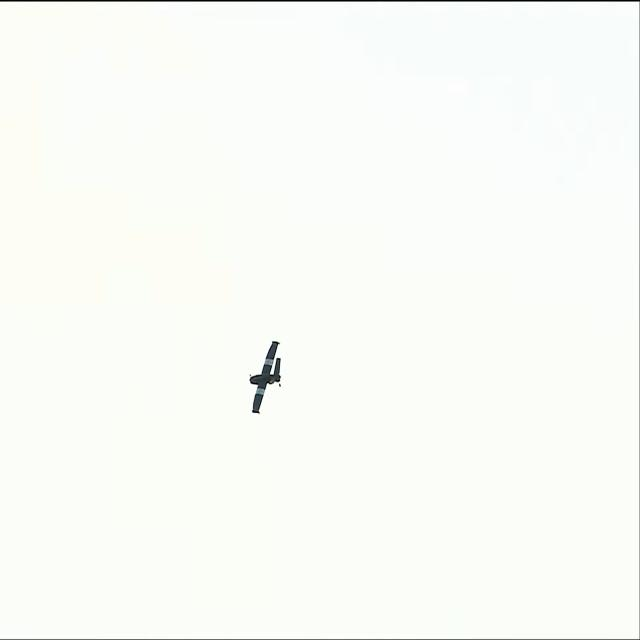iha: (243, 370, 275, 385)
